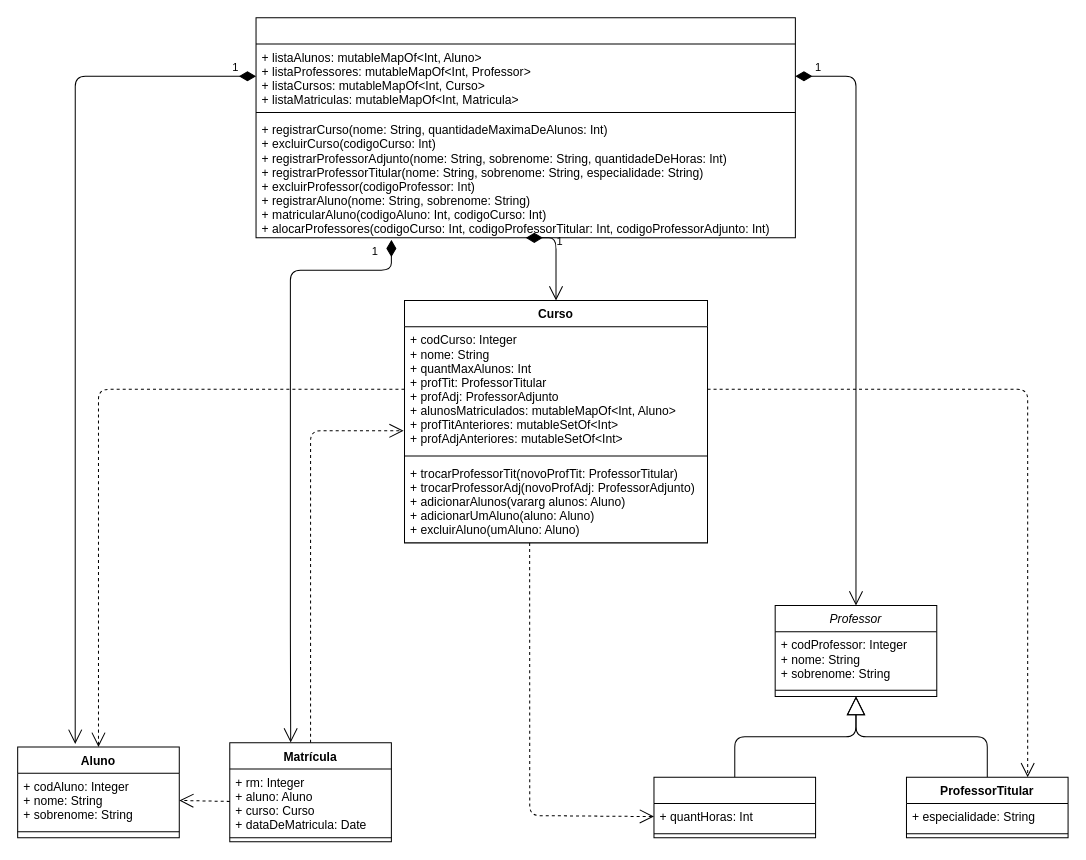
Image size: 1086x860. Some labels were removed from this diagram. The box of each missing label's shape, as (x1, y1, x2, y2) in pixels:
DigitalHouseManager: (255, 17, 795, 238)
ProfessorAdjunto: (653, 776, 816, 838)
